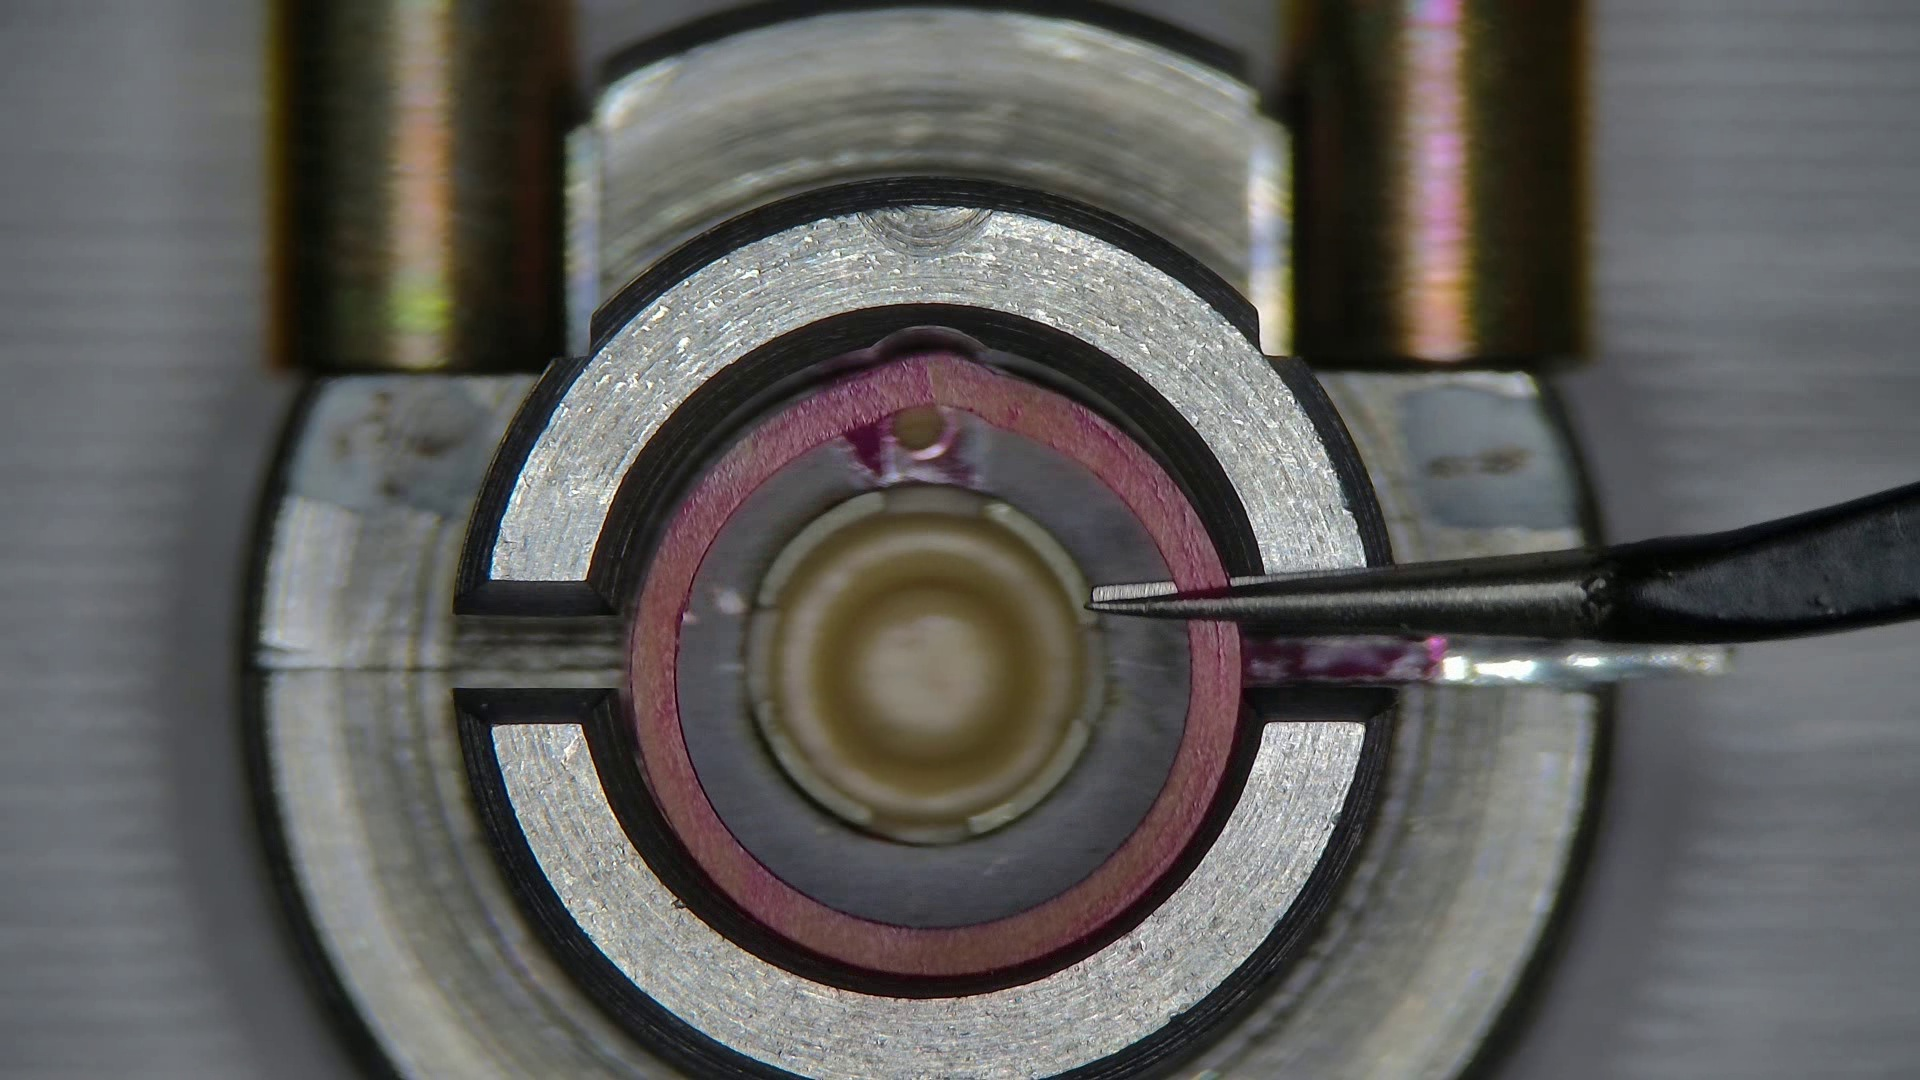GreyOring: (629, 349, 1237, 975)
YellowOring: (676, 415, 1185, 926)
